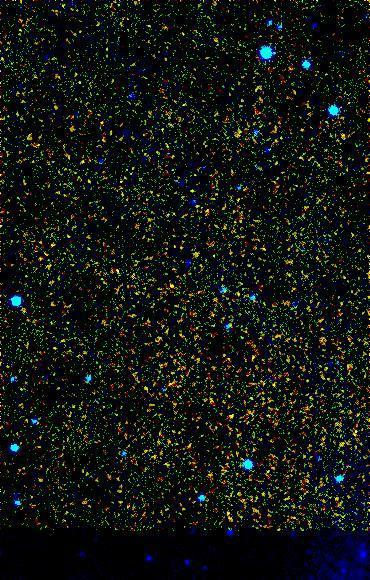star: (156, 272, 186, 302)
